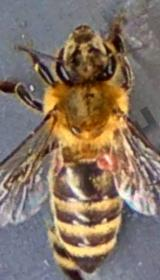varroa_mite: (83, 138, 129, 182)
